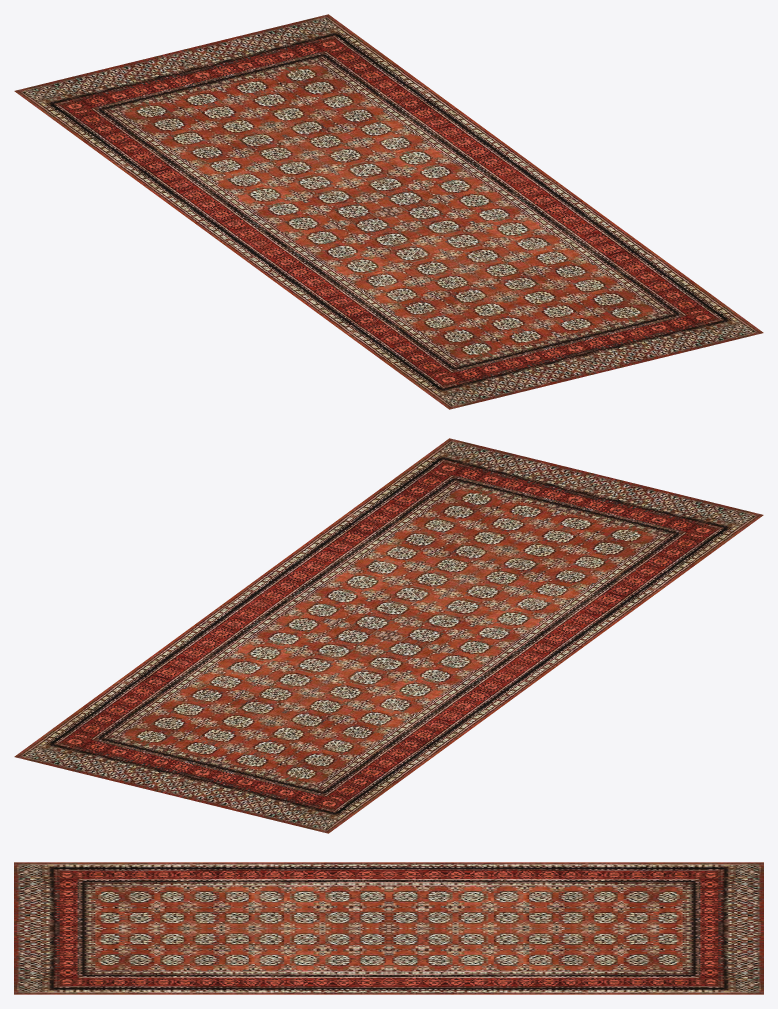
Rendered from frn_all_rug_rectangle_lg_s02.fbx.
The picture shows the model from 3 angles, top to bottom: view 1: azimuth 30°, elevation 25°; view 2: azimuth 150°, elevation 25°; view 3: azimuth 270°, elevation 25°; orthographic projection. The views are drawn at different scales.
Parts seen in each view (by area): view 1: mesh_node; view 2: mesh_node; view 3: mesh_node.
Part boxes in pixels (box(x1,y1,x2,y2)): mesh_node: box(14, 14, 763, 409); mesh_node: box(14, 438, 763, 833); mesh_node: box(14, 862, 763, 994).
Size of the model in its own units: 2.97 by 0 by 7.12.
